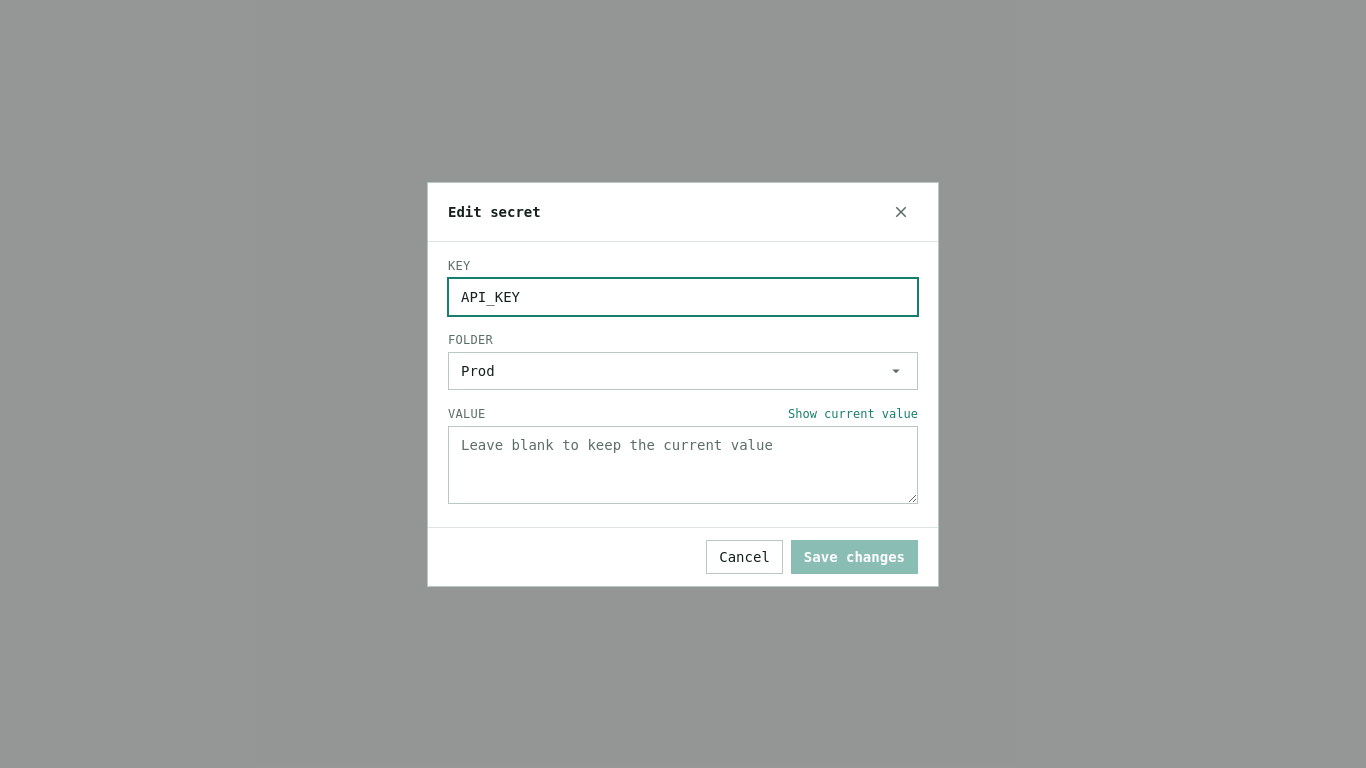
EditSecretDialog › asks before discarding unsaved edits
Step 1. Type "X" into the field labelled "Key" → [683, 296], box [448, 278, 918, 316]
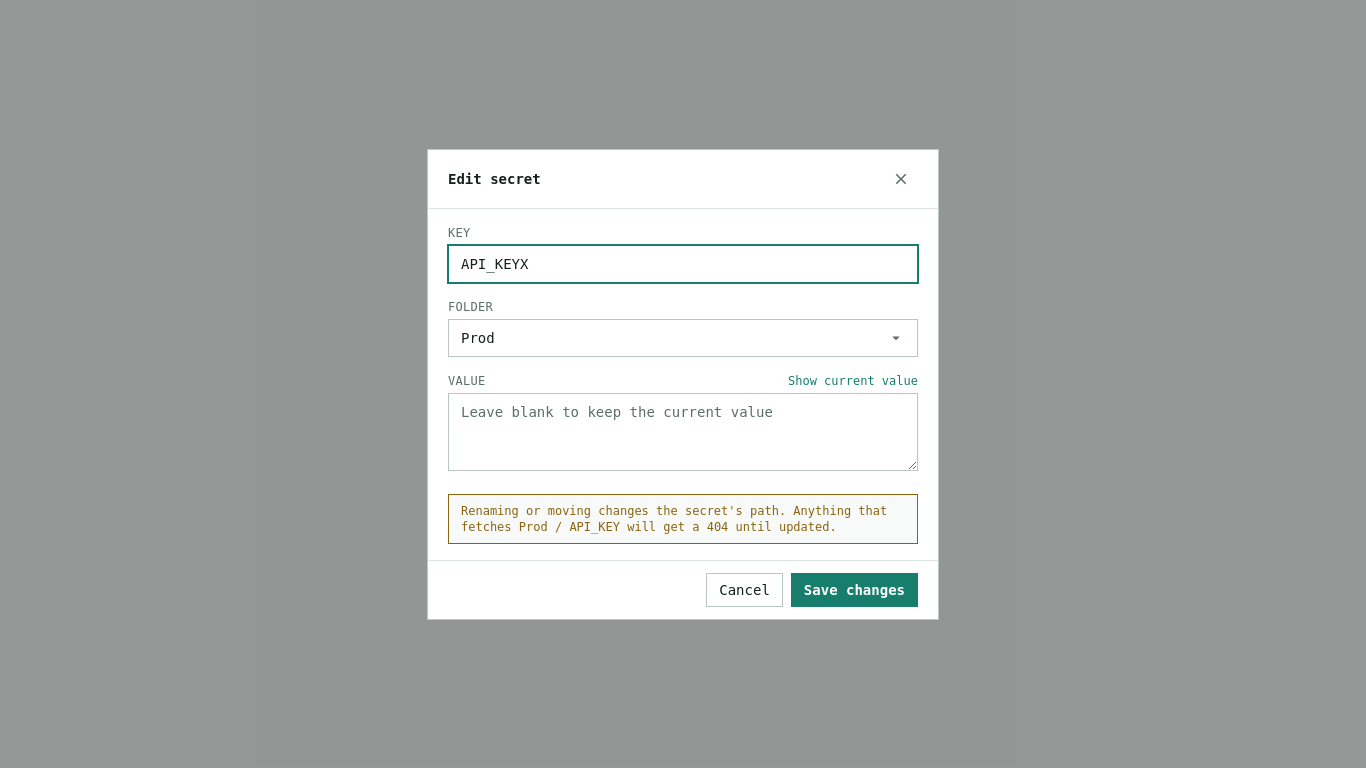
Step 2. Click the button "Cancel" → [745, 590], box [706, 572, 783, 606]
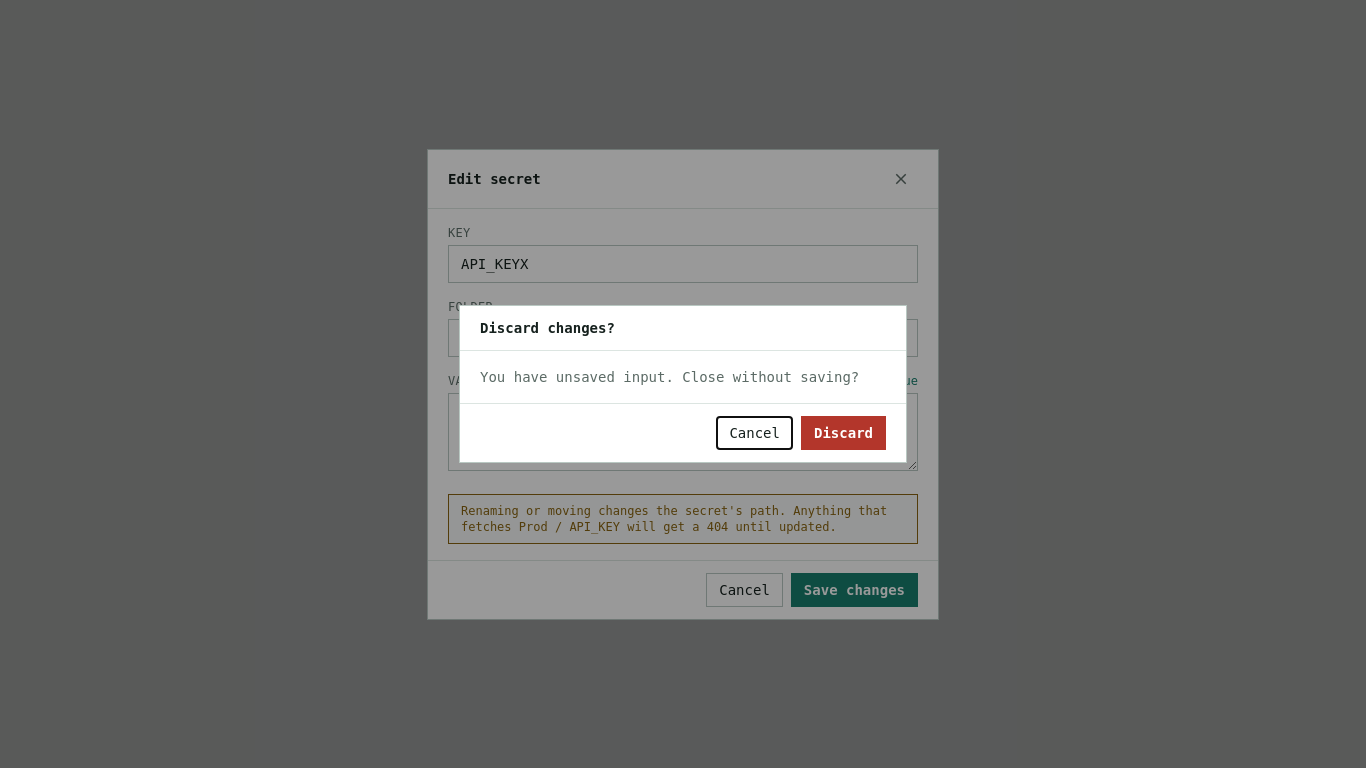
Result: the heading "Discard changes?" is shown at [480, 320, 615, 336]
